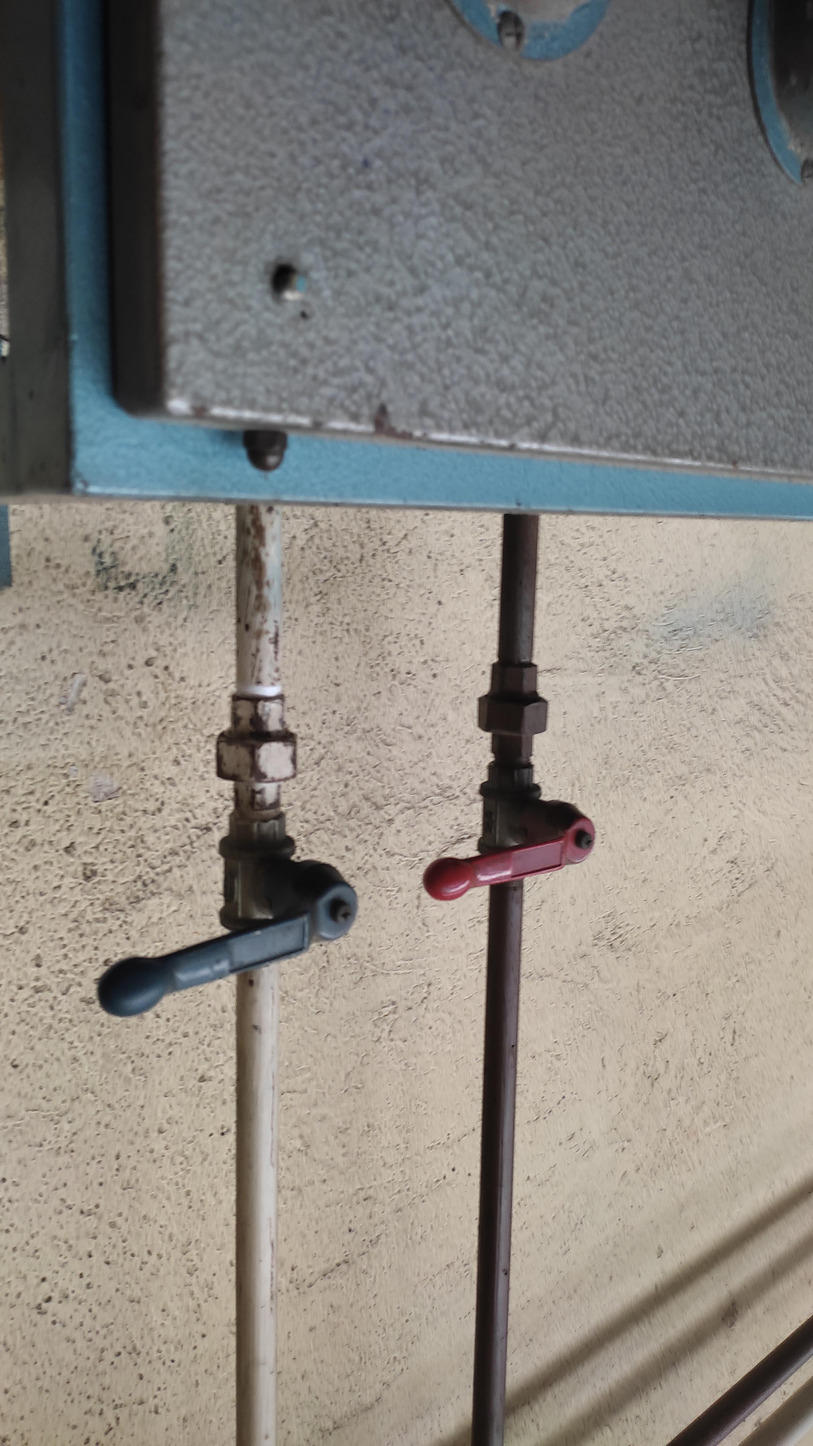closed valve: (93, 808, 361, 1021), (418, 762, 598, 902)
